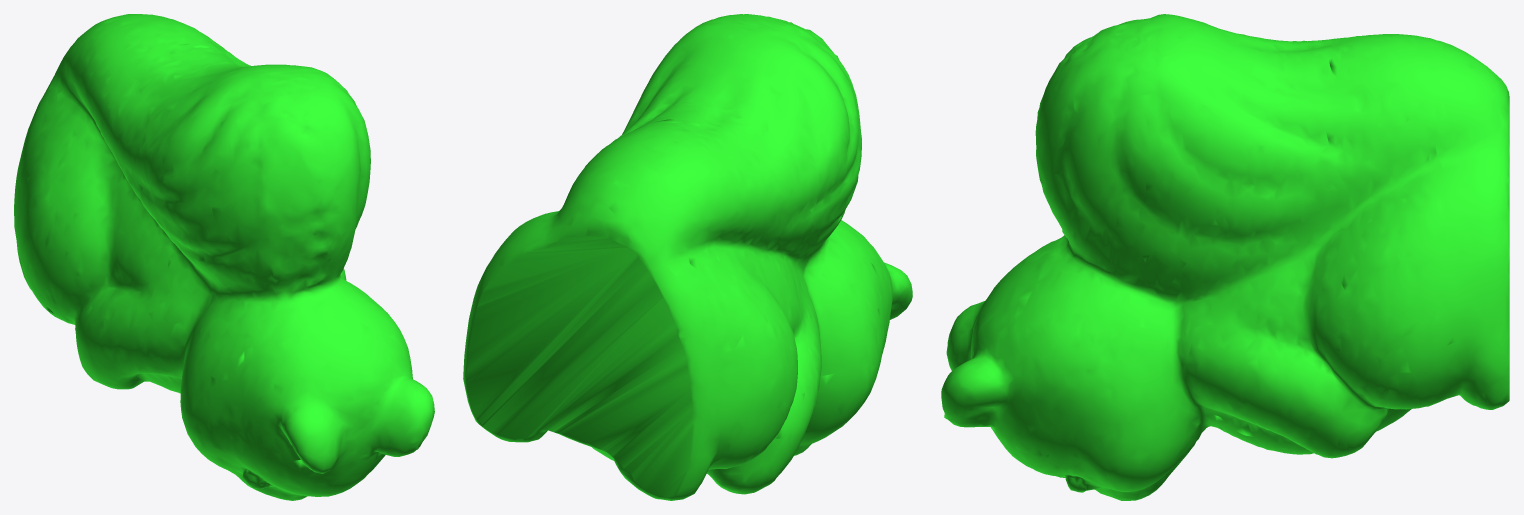
The model's file is Lildit.obj.
3 renders of one model, left to right at view 1: azimuth 30°, elevation 25°; view 2: azimuth 150°, elevation 25°; view 3: azimuth 270°, elevation 25°, orthographic. The views are drawn at different scales.
Parts seen in each view (by area): view 1: Lildit; view 2: Lildit; view 3: Lildit.
Boxes of the visible parts, x1,y1,x2,y2 form: Lildit: (14,14,434,500); Lildit: (463,14,912,500); Lildit: (941,14,1509,500).
Bounding box in the file's own units: 0.6322 × 0.9011 × 1.
